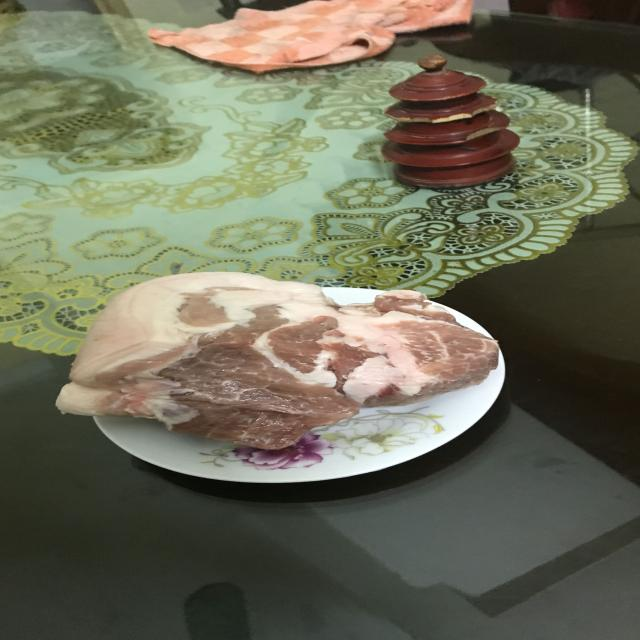chicken: (45, 276, 500, 454)
